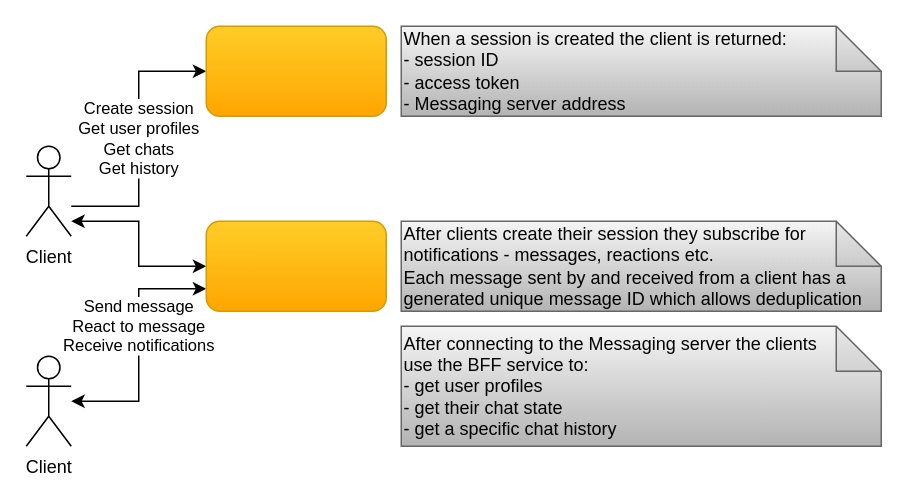
Some shapes in this 908 by 504 pixel diagram are drawn without their labels. Each missing label, with the box of its shape:
Backend For Frontend: (205, 25, 386, 116)
Messaging: (205, 220, 386, 311)
